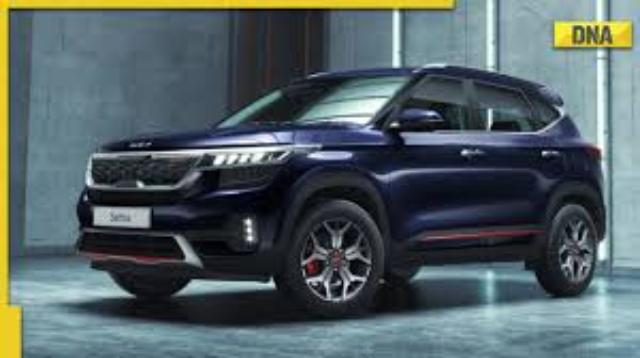kia: (74, 64, 606, 318)
